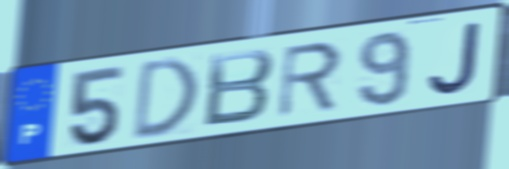5: (66, 62, 127, 148)
9: (353, 28, 413, 109)
B: (200, 46, 277, 130)
D: (129, 54, 202, 144)
J: (425, 18, 485, 97)
R: (275, 39, 345, 121)
